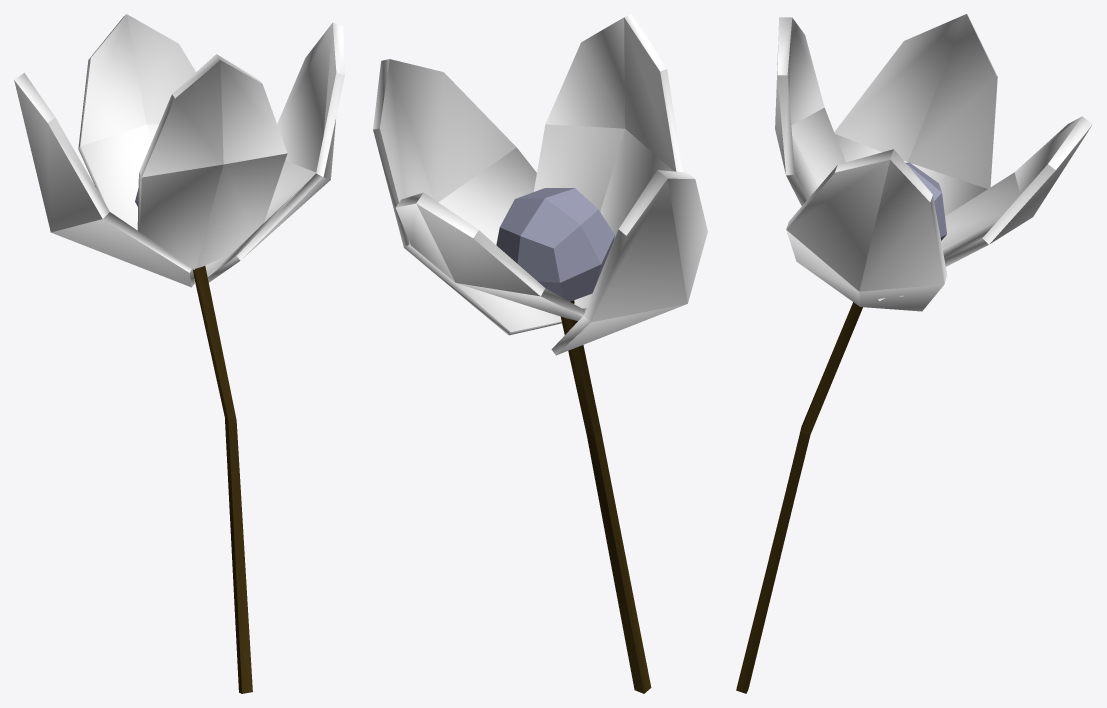
Rendered from Flower_1.fbx.
3 views of the same model, side by side, from view 1: azimuth 30°, elevation 25°; view 2: azimuth 150°, elevation 25°; view 3: azimuth 270°, elevation 25° (orthographic). The views are drawn at different scales.
Parts seen in each view (by area): view 1: Flower_1; view 2: Flower_1; view 3: Flower_1.
Boxes of the visible parts, x1,y1,x2,y2 form: Flower_1: (14,14,344,693); Flower_1: (373,14,707,693); Flower_1: (736,14,1092,693).
Bounding box in the file's own units: 10.62 × 21.57 × 10.4.
